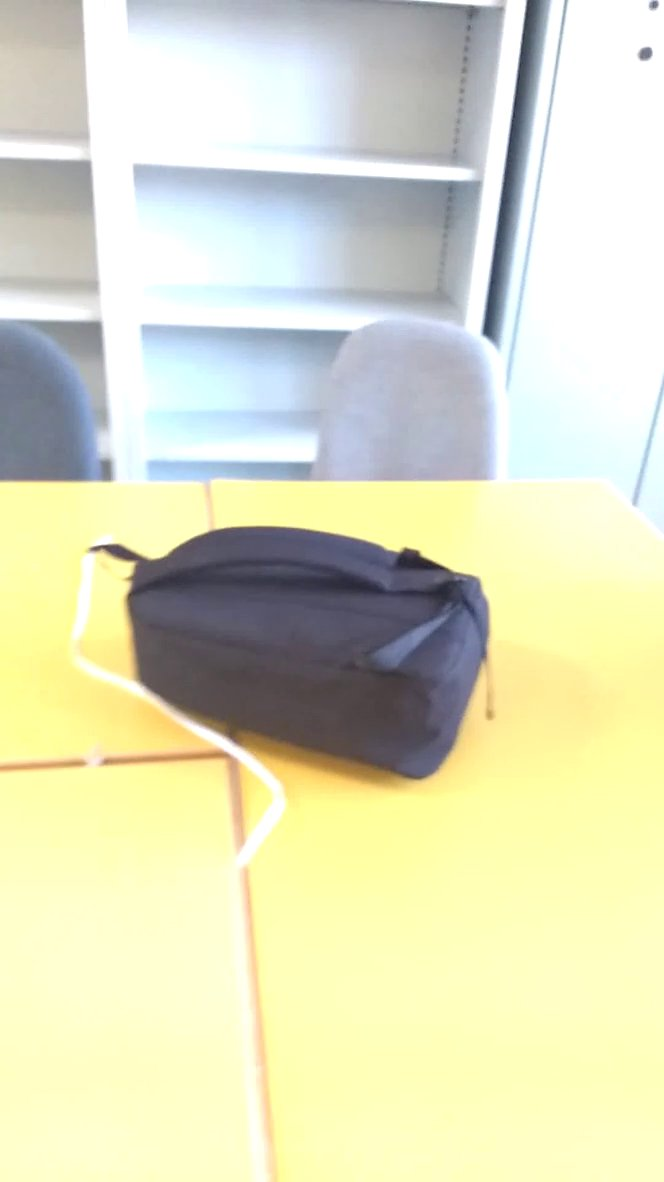bag: (83, 519, 508, 800)
chair: (301, 300, 540, 512)
